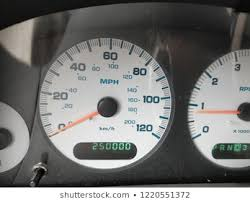Digital_Meter: (77, 140, 145, 160)
